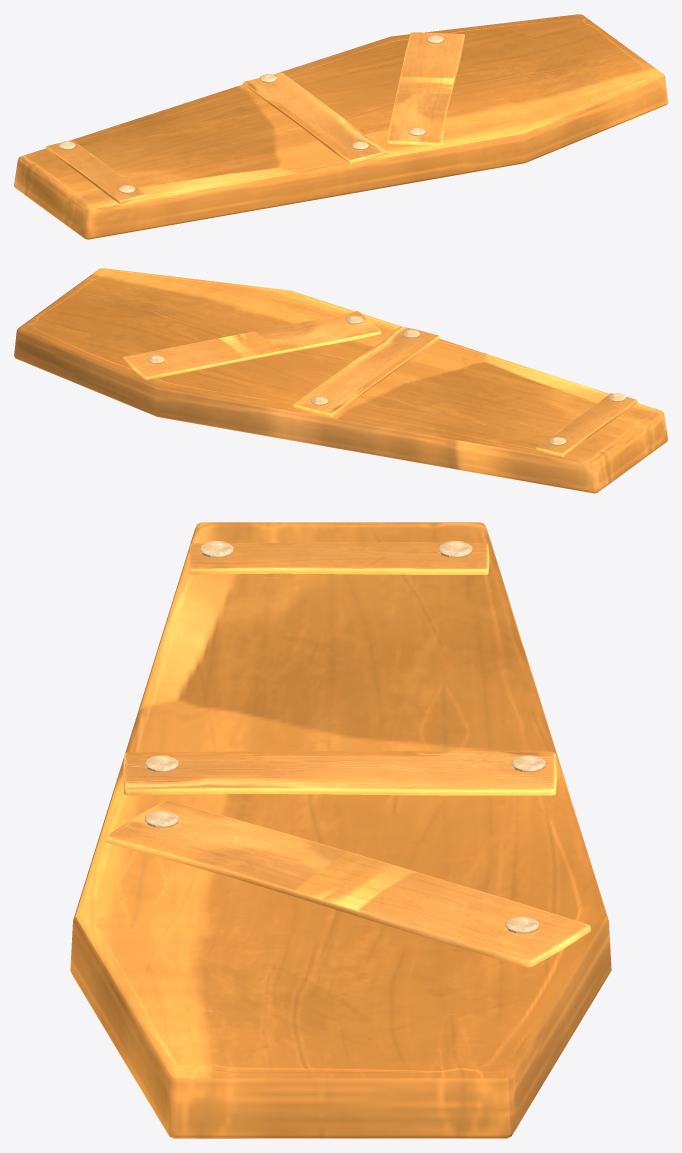
File: SM_Cover_SM_Cover.fbx
The picture shows the model from 3 angles, top to bottom: view 1: azimuth 30°, elevation 25°; view 2: azimuth 150°, elevation 25°; view 3: azimuth 270°, elevation 25°; orthographic projection. The views are drawn at different scales.
Parts seen in each view (by area): view 1: SM_Cover_SM_Cover_LOD0; view 2: SM_Cover_SM_Cover_LOD0; view 3: SM_Cover_SM_Cover_LOD0.
Part boxes in pixels (x1,y1,x2,y2): SM_Cover_SM_Cover_LOD0: [14, 14, 667, 239]; SM_Cover_SM_Cover_LOD0: [14, 268, 667, 493]; SM_Cover_SM_Cover_LOD0: [70, 522, 611, 1138].
Size of the model in its own units: 190 by 77.22 by 12.73.
